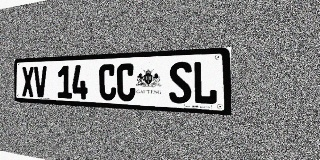1: (57, 65, 72, 99)
4: (72, 65, 88, 99)
C: (117, 63, 135, 101), (99, 64, 116, 101)
L: (193, 61, 218, 105)
S: (169, 61, 192, 104)
V: (34, 66, 47, 98)
X: (22, 66, 34, 97)
